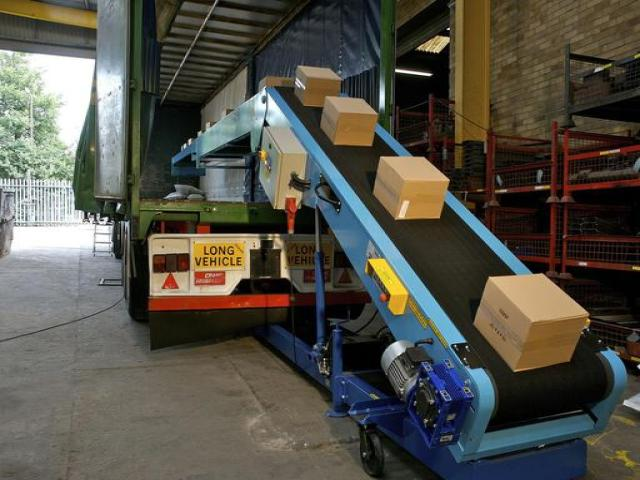conveyor: (165, 64, 630, 479)
